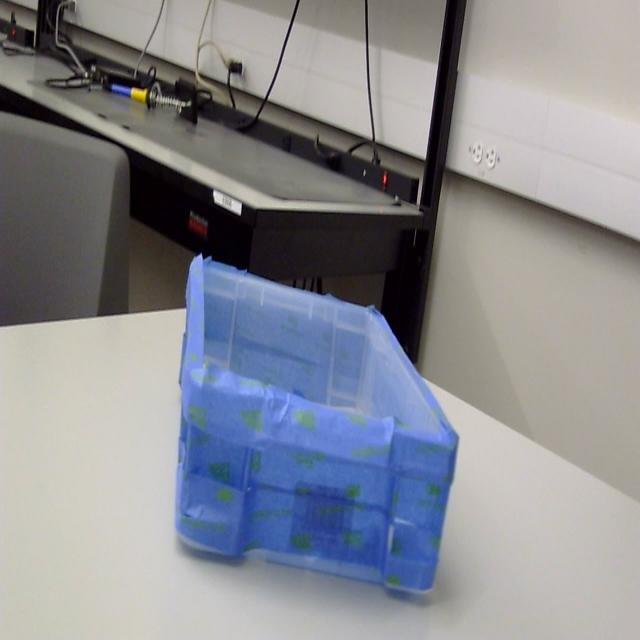bucket: (174, 257, 458, 605)
